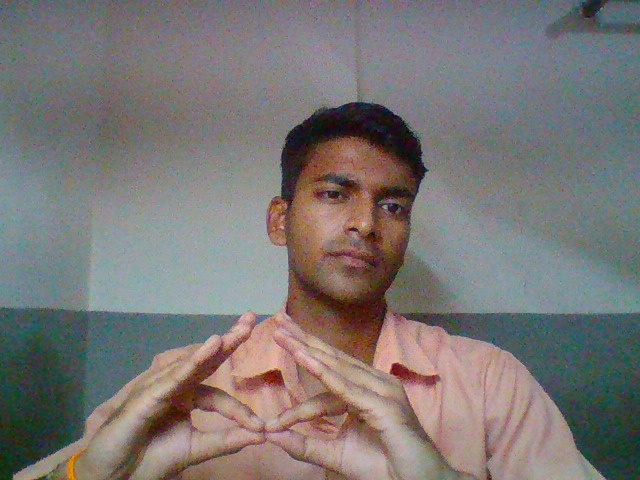B: (63, 303, 472, 480)
